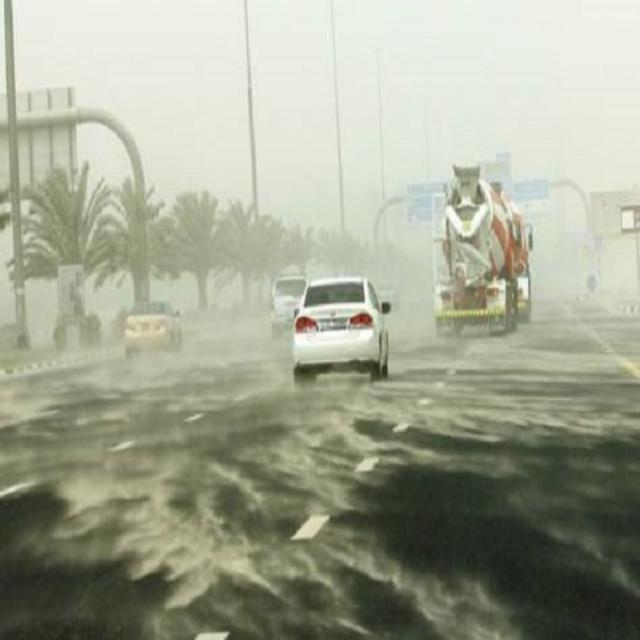bus: (434, 160, 516, 332), (514, 201, 536, 328)
car: (292, 276, 391, 378), (123, 300, 183, 350), (270, 276, 306, 326), (378, 281, 400, 307)
